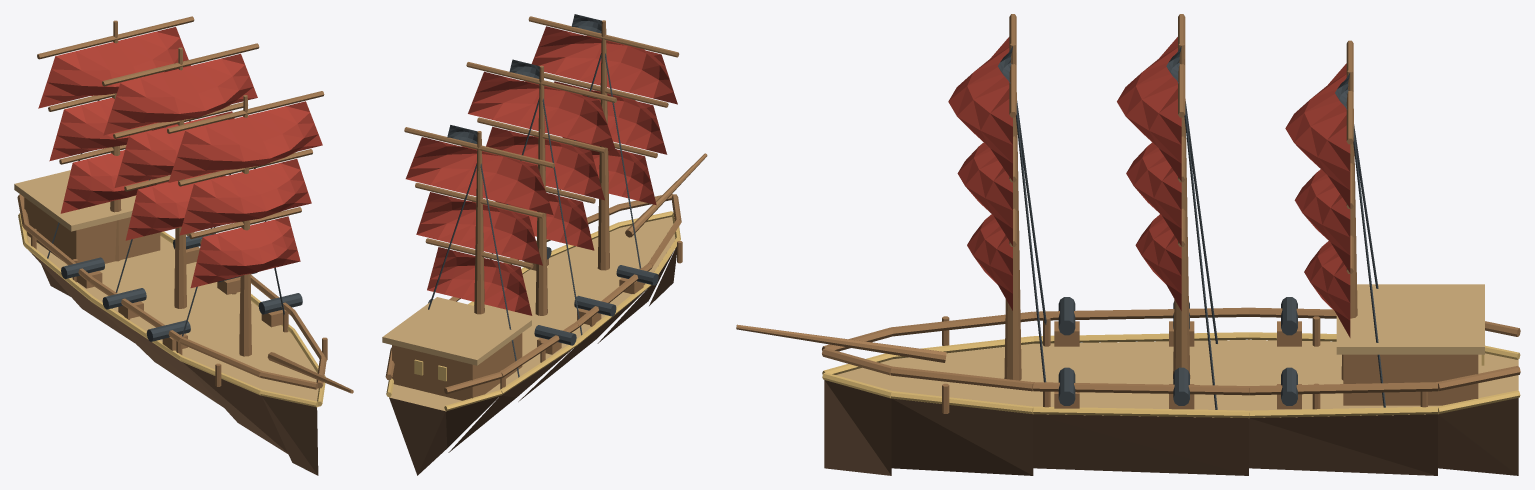
The model's file is npc_heavy_01.glb.
3 views of the same model, side by side, from view 1: azimuth 30°, elevation 25°; view 2: azimuth 150°, elevation 25°; view 3: azimuth 270°, elevation 25° (orthographic). The views are drawn at different scales.
Parts seen in each view (by area): view 1: npc_admiral; view 2: npc_admiral; view 3: npc_admiral.
Boxes of the visible parts, bbox=[...] form: npc_admiral: bbox=[14, 16, 353, 475]; npc_admiral: bbox=[382, 14, 707, 475]; npc_admiral: bbox=[736, 14, 1520, 475].
Size of the model in its own units: 2.75 by 5.65 by 9.31.
